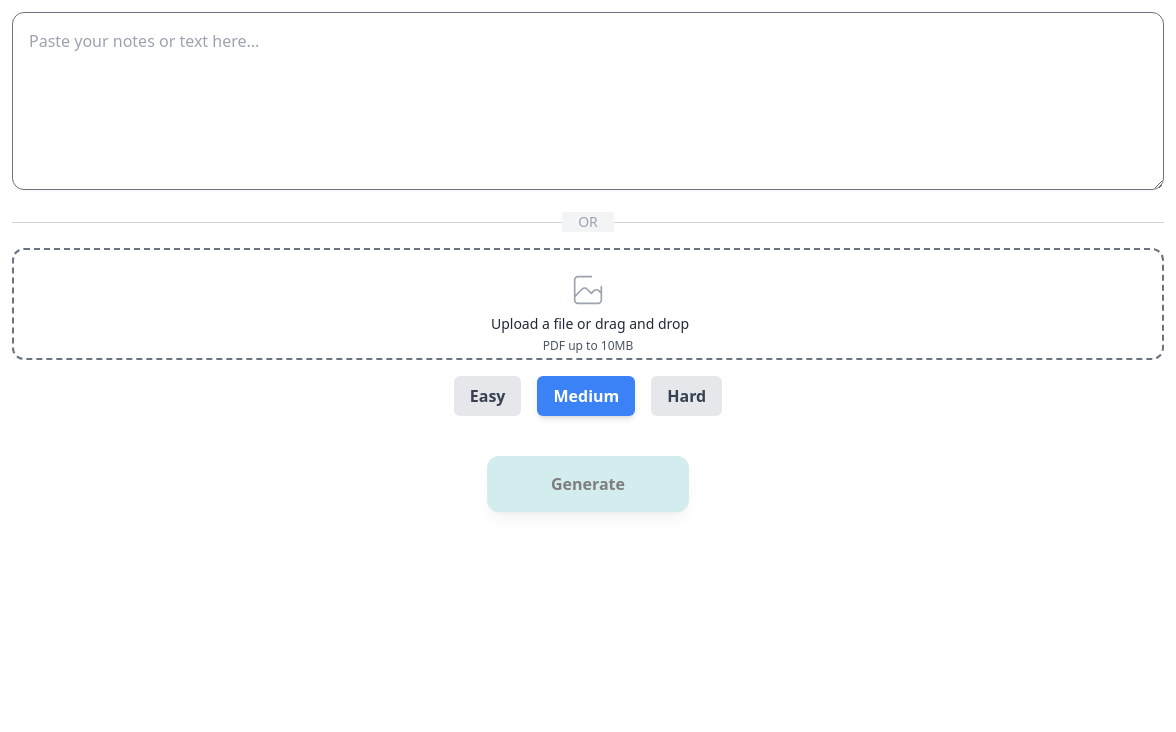
Test: InputForm › should enable the button when text is entered
This screenshot has width=1176, height=732.
In the text box with placeholder "Paste your notes or text here...": [588, 101] box [12,12,1164,190], type "Some text"
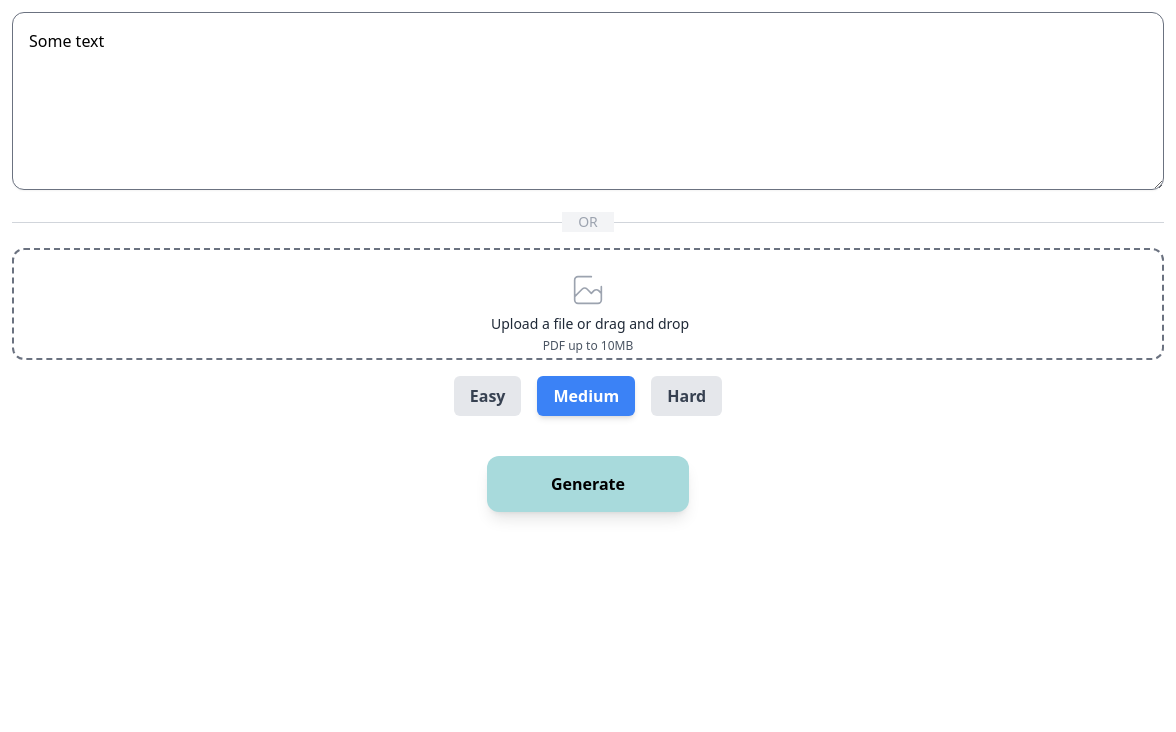
Expected: the button "Generate" is enabled, [487,456,689,512]
